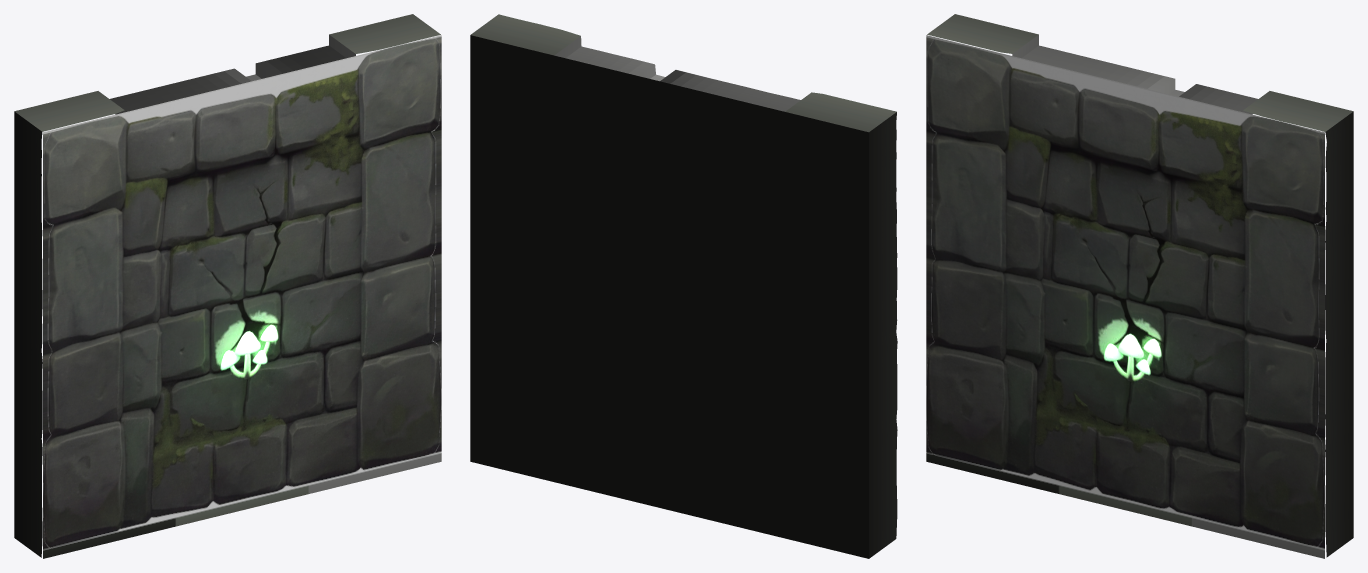
The model's file is wall_crack.glb.
3 views of the same model, side by side, from view 1: azimuth 30°, elevation 25°; view 2: azimuth 150°, elevation 25°; view 3: azimuth 330°, elevation 25° (orthographic).
Visible parts, largest first — view 1: wall_crack; view 2: wall_crack; view 3: wall_crack.
Part boxes in pixels (bbox=[...]): wall_crack: bbox=[14, 14, 441, 558]; wall_crack: bbox=[470, 14, 897, 558]; wall_crack: bbox=[926, 14, 1353, 558].
Bounding box in the file's own units: 2 × 2.05 × 0.25.
1 material, 1 textured.
